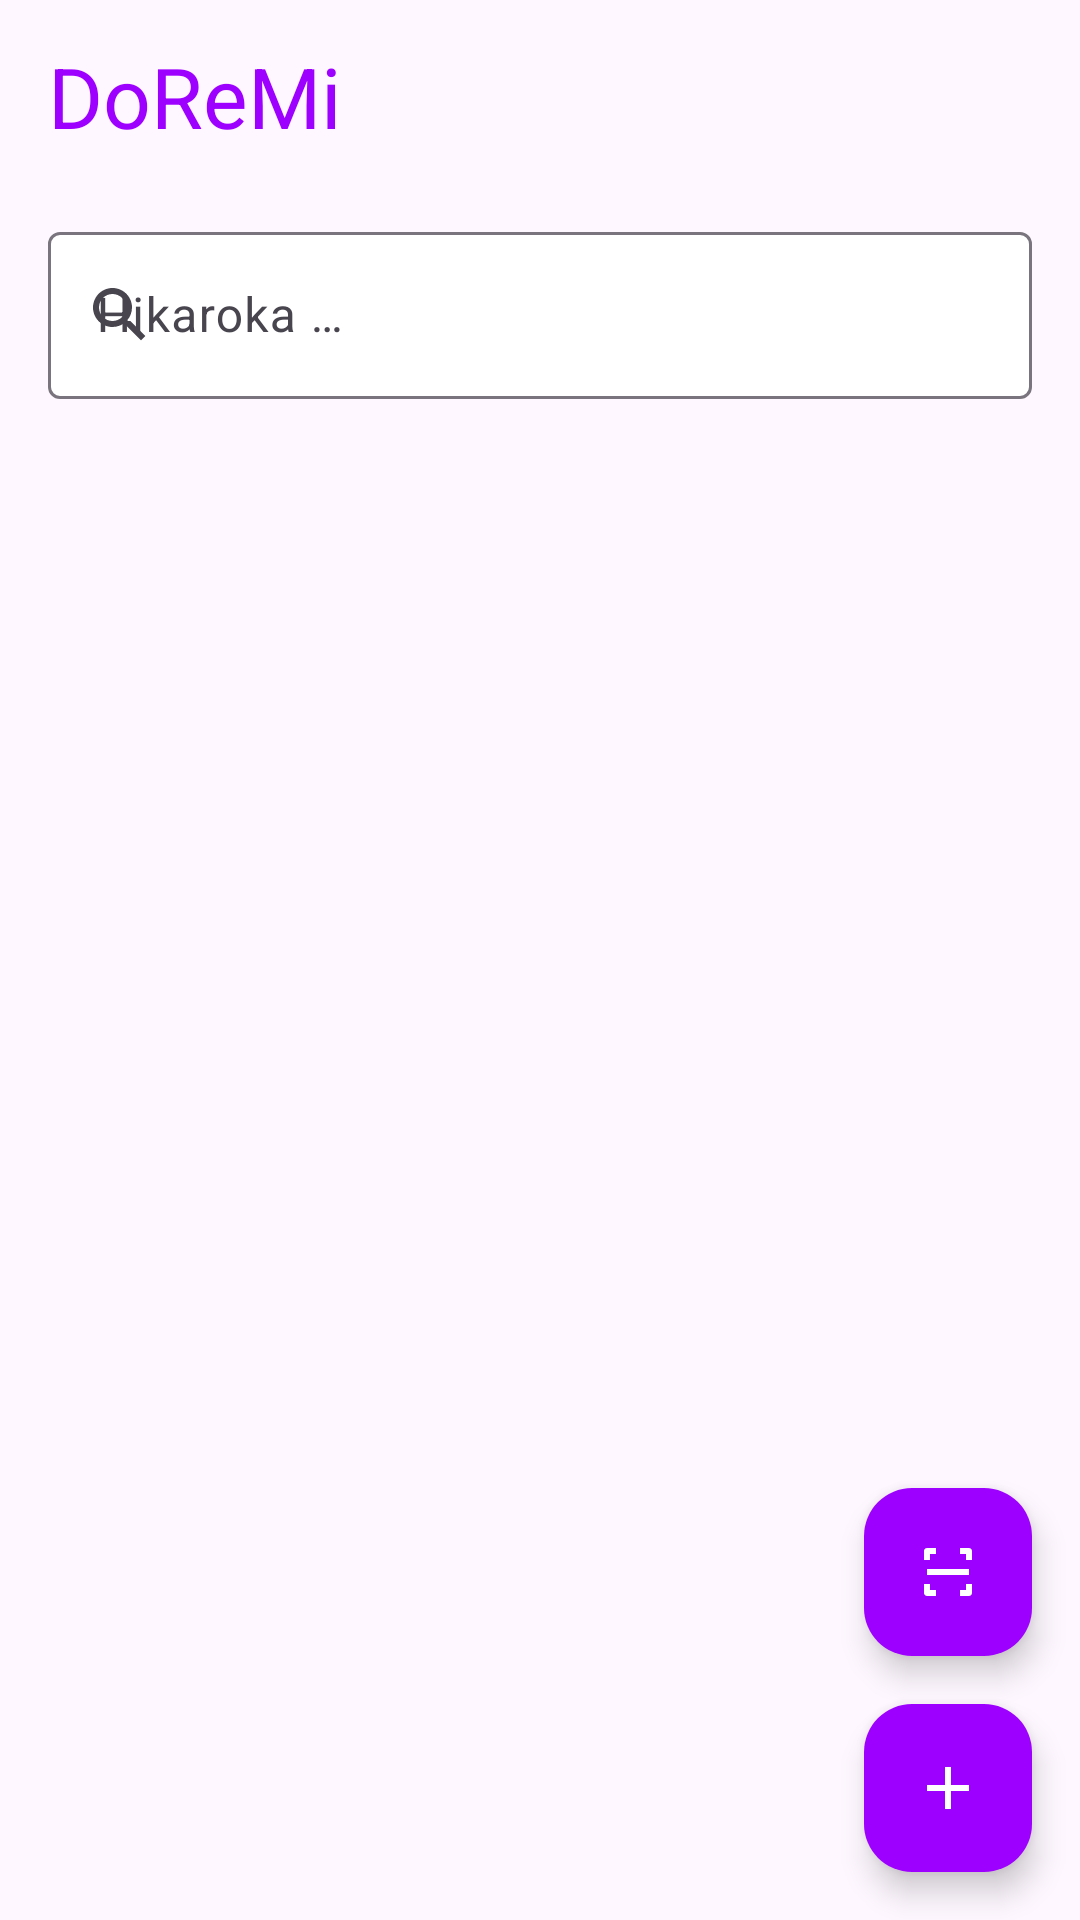

Icons on this 1080*1920 Android screen, each with its box as (x1, y1, x2, y2):
scan: (864, 1488, 1032, 1656)
